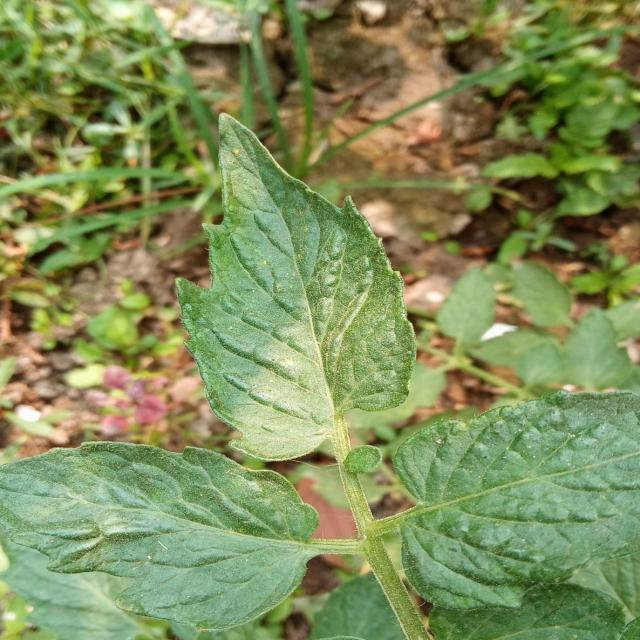Healthy: (93, 77, 453, 482), (0, 408, 343, 640), (393, 390, 640, 610)
